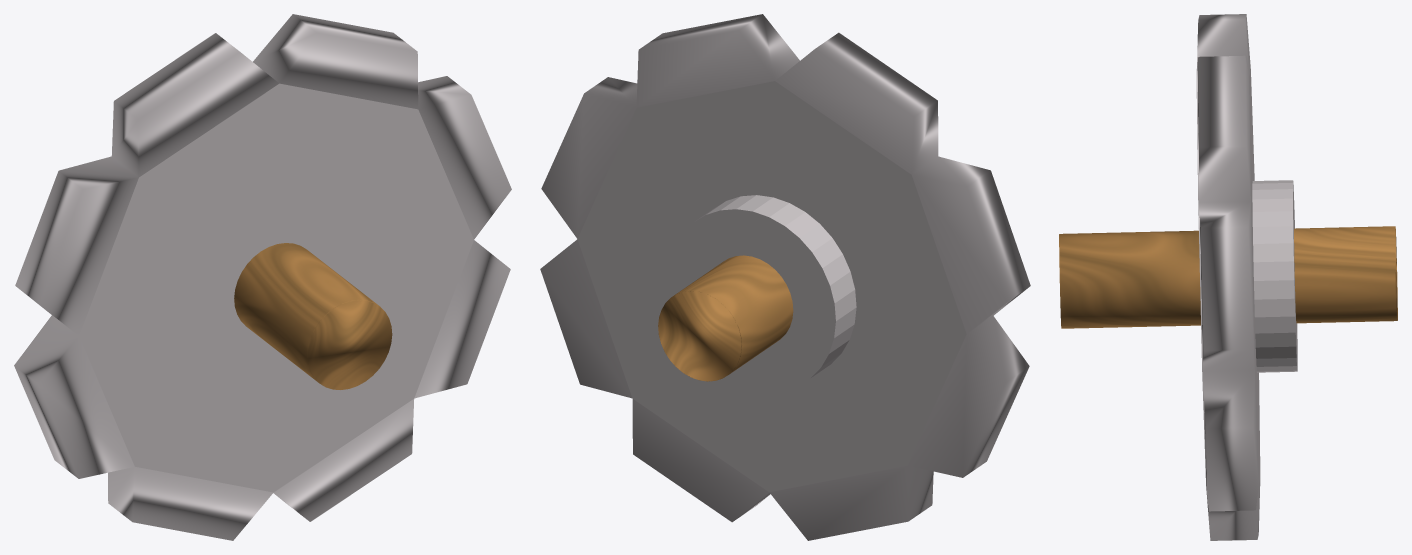
The model's file is engrenage.glb.
3 views of the same model, side by side, from view 1: azimuth 30°, elevation 25°; view 2: azimuth 150°, elevation 25°; view 3: azimuth 270°, elevation 25° (orthographic). The views are drawn at different scales.
Parts seen in each view (by area): view 1: Cylinder.003, Cylinder.002; view 2: Cylinder.003, Cylinder.001, Cylinder.002; view 3: Cylinder.003, Cylinder.002, Cylinder.001.
Part boxes in pixels (box(x1,y1,x2,y2)): Cylinder.003: box(14, 14, 511, 540); Cylinder.002: box(234, 243, 392, 389); Cylinder.003: box(540, 14, 1030, 540); Cylinder.001: box(667, 195, 856, 392); Cylinder.002: box(658, 255, 793, 381); Cylinder.003: box(1196, 14, 1260, 540); Cylinder.002: box(1059, 226, 1397, 328); Cylinder.001: box(1252, 180, 1297, 372).
Bounding box in the file's own units: 2.39 × 2.4 × 1.53.
2 materials, 1 textured.
